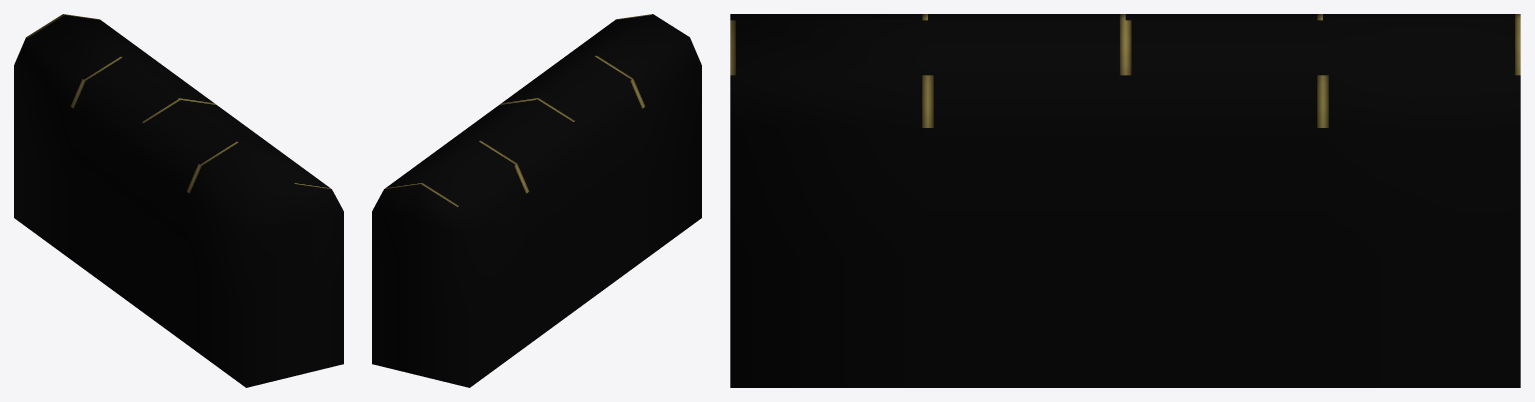
The picture shows the model from 3 angles, left to right: view 1: azimuth 30°, elevation 25°; view 2: azimuth 150°, elevation 25°; view 3: azimuth 270°, elevation 25°; orthographic projection. The views are drawn at different scales.
Visible parts, largest first — view 1: T1L1M004_7; view 2: T1L1M004_7; view 3: T1L1M004_7.
Part boxes in pixels (left/top/right/bottom): T1L1M004_7: left=14, top=14, right=343, bottom=387; T1L1M004_7: left=372, top=14, right=701, bottom=387; T1L1M004_7: left=730, top=14, right=1520, bottom=387.
Size of the model in its own units: 0.6299 by 1.18 by 2.59.
